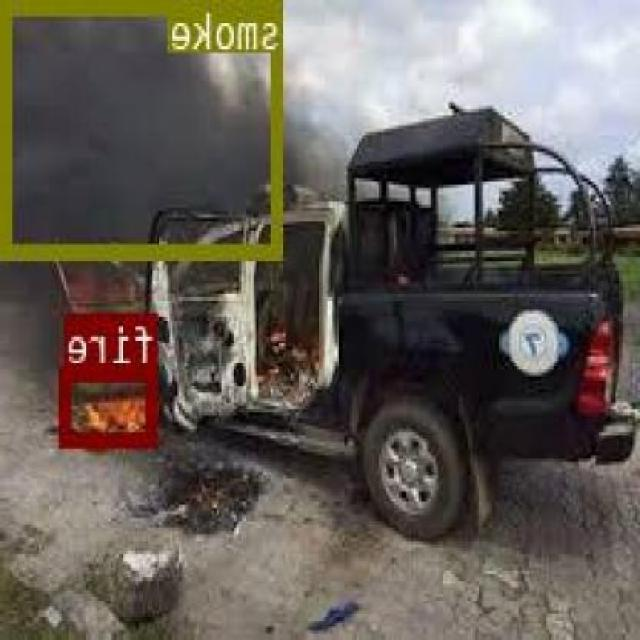Fire: (63, 365, 159, 443)
Smoke: (5, 0, 286, 254)
